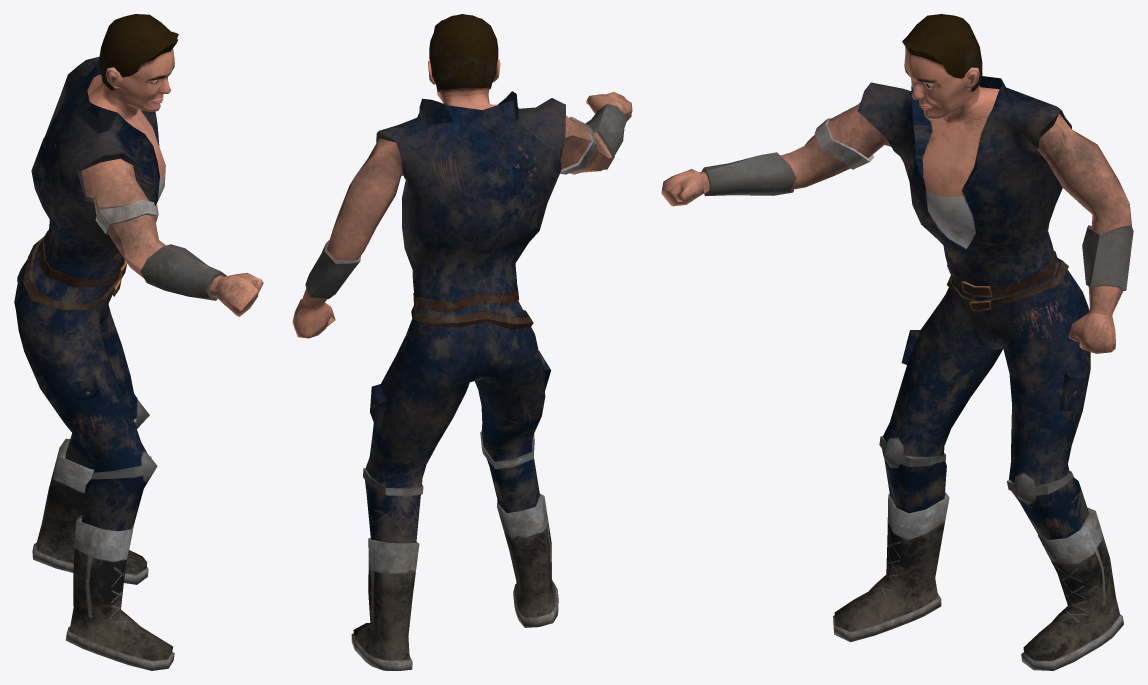
File: Anim_interruptor_jugador.0026.obj
3 renders of one model, left to right at view 1: azimuth 30°, elevation 25°; view 2: azimuth 150°, elevation 25°; view 3: azimuth 270°, elevation 25°, orthographic. The views are drawn at different scales.
Visible parts, largest first — view 1: polySurface1; view 2: polySurface1; view 3: polySurface1.
Part boxes in pixels (x1,y1,x2,y2): polySurface1: (14,14,263,670); polySurface1: (292,14,632,670); polySurface1: (661,14,1133,670).
Bounding box in the file's own units: 3.04 × 9.31 × 6.33.
